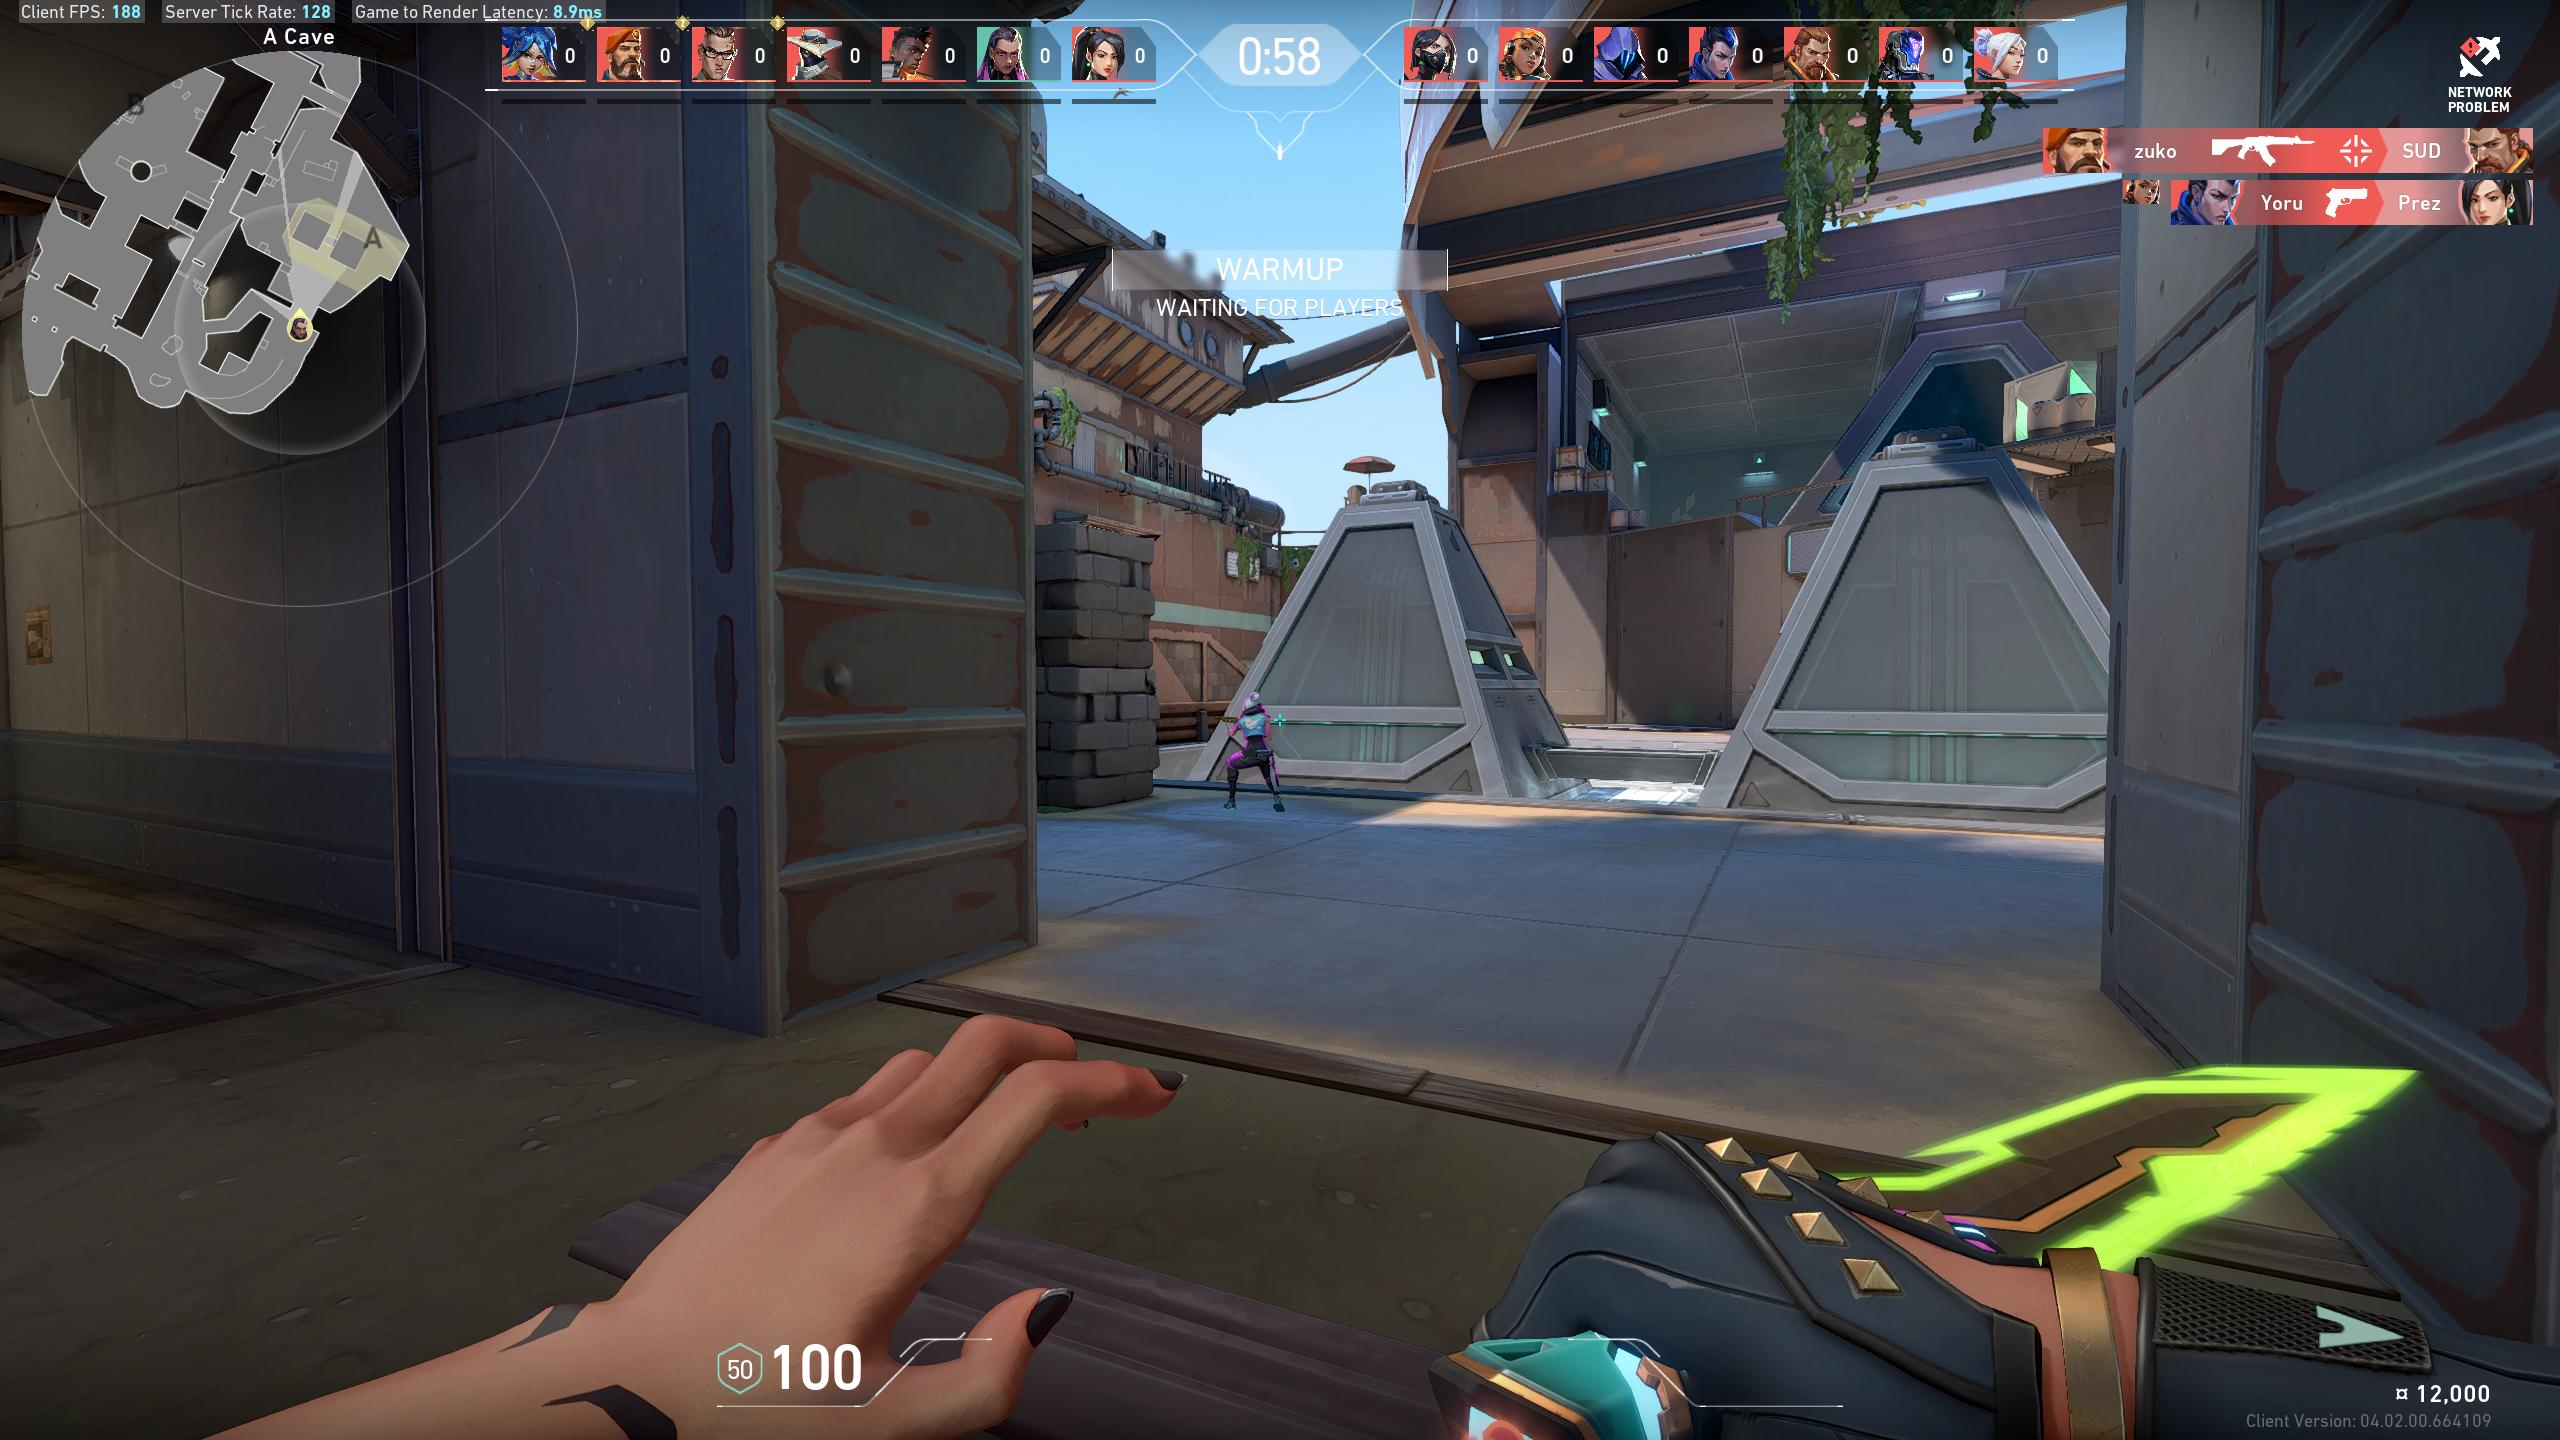enemyBody: (1245, 716, 1262, 740)
enemyHead: (1245, 700, 1255, 712)
